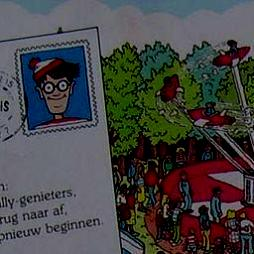waldos: (27, 56, 93, 129)
